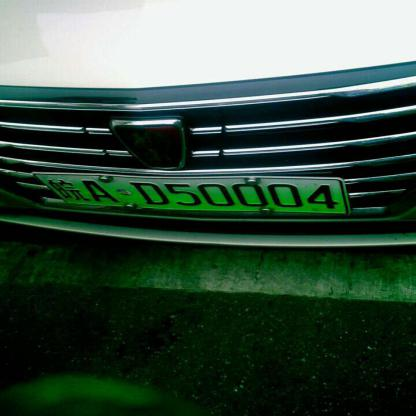lp: (64, 174, 347, 213)
